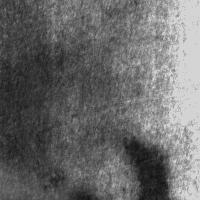patches: (0, 41, 124, 181), (0, 141, 84, 200), (122, 139, 169, 200)
